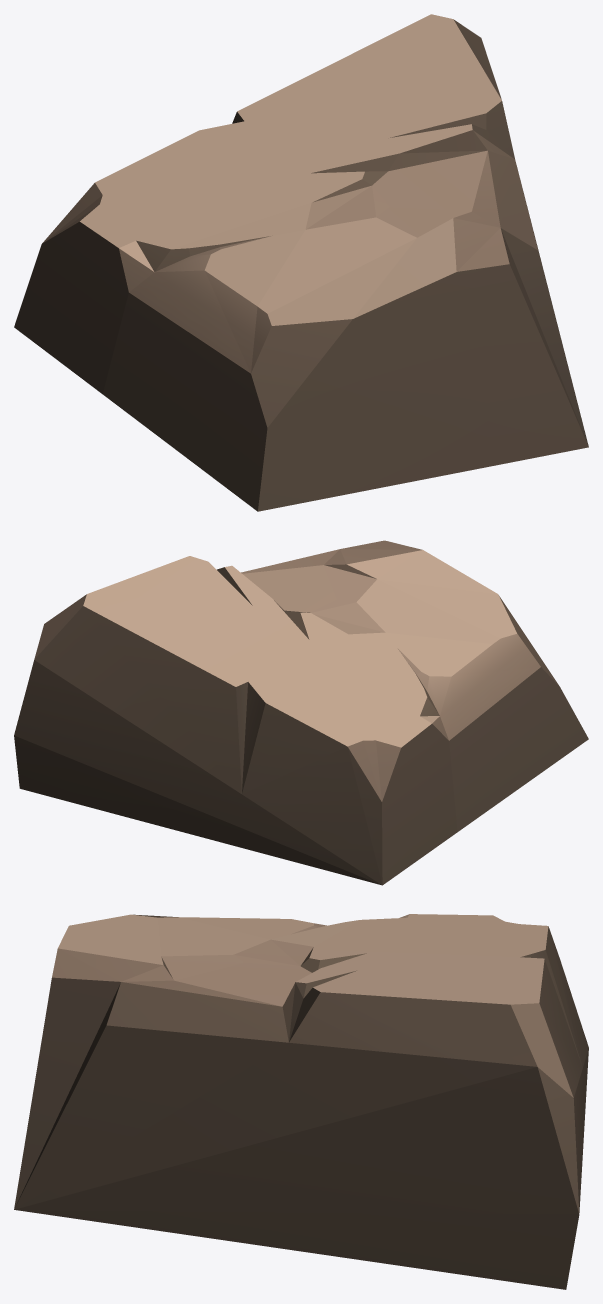
The model's file is Rock_Medium_3D.fbx.
3 views of the same model, one above another, from view 1: azimuth 30°, elevation 25°; view 2: azimuth 150°, elevation 25°; view 3: azimuth 270°, elevation 25° (orthographic). The views are drawn at different scales.
Parts seen in each view (by area): view 1: Rock_Medium_3D; view 2: Rock_Medium_3D; view 3: Rock_Medium_3D.
Part boxes in pixels (x1,y1,x2,y2): Rock_Medium_3D: (14, 14, 588, 511); Rock_Medium_3D: (14, 540, 588, 885); Rock_Medium_3D: (14, 914, 588, 1289).
Size of the model in its own units: 1.85 by 0.8931 by 1.83.
